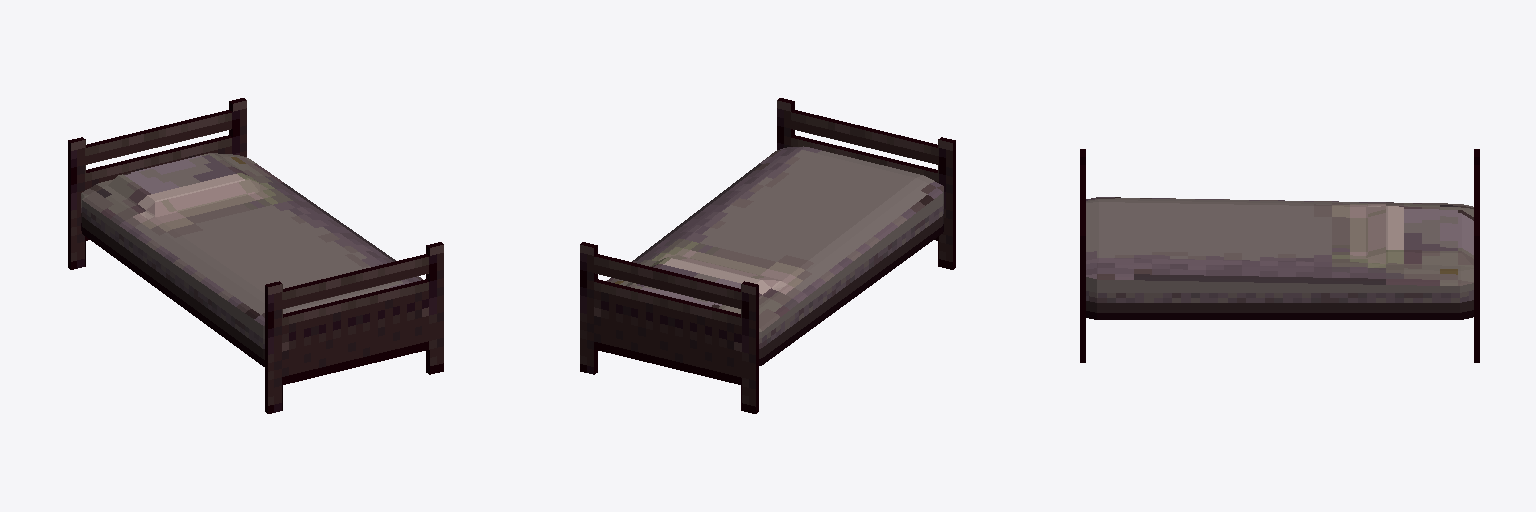
The picture shows the model from 3 angles: view 1: azimuth 30°, elevation 25°; view 2: azimuth 150°, elevation 25°; view 3: azimuth 270°, elevation 25°; orthographic projection.
Parts seen in each view (by area): view 1: Cube_Cube.001; view 2: Cube_Cube.001; view 3: Cube_Cube.001.
Boxes of the visible parts, x1=… form: Cube_Cube.001: x1=68, y1=98, x2=443, y2=413; Cube_Cube.001: x1=580, y1=98, x2=955, y2=413; Cube_Cube.001: x1=1080, y1=149, x2=1479, y2=362.
Size of the model in its own units: 2.83 by 1.95 by 5.58.
3 materials, 1 textured.